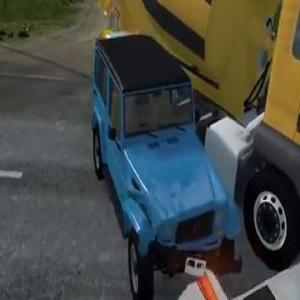superficial: (92, 0, 300, 300)
